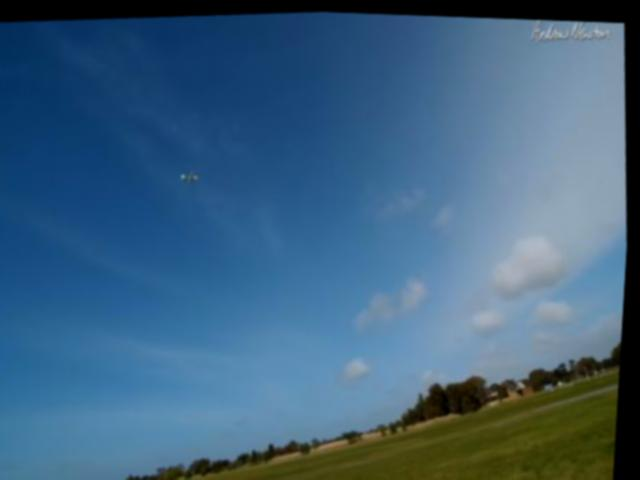uav: (177, 162, 204, 187)
